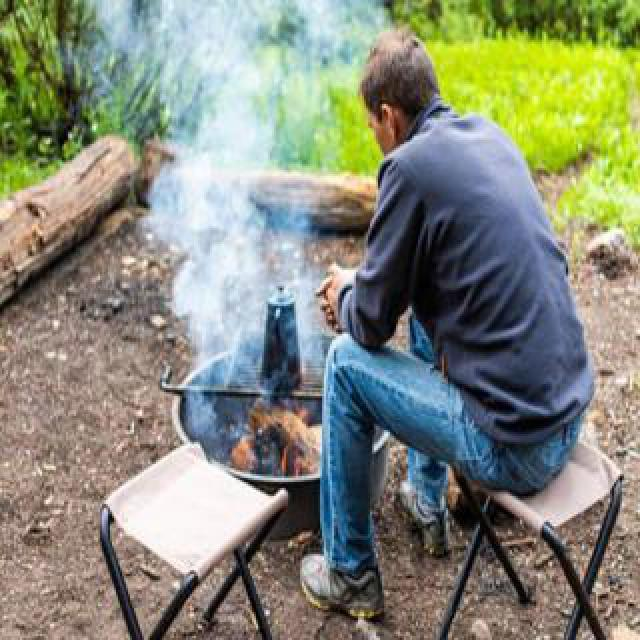smoke: (127, 1, 326, 398)
zfire: (236, 406, 320, 476)
